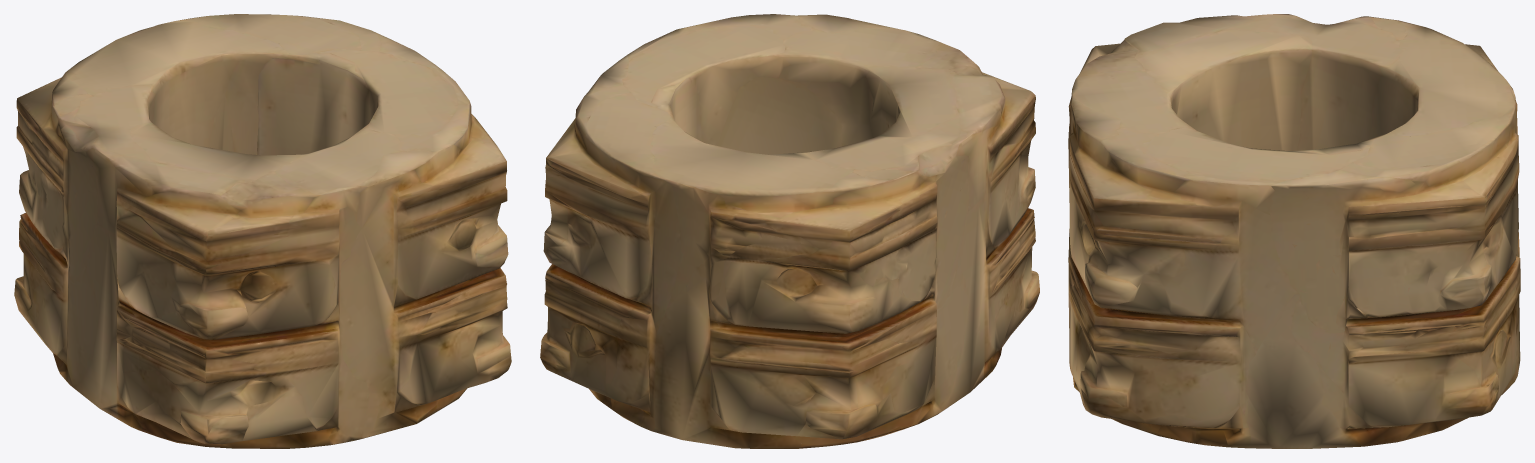
The model's file is liangzhu-early-overview.glb.
3 views of the same model, side by side, from view 1: azimuth 30°, elevation 25°; view 2: azimuth 150°, elevation 25°; view 3: azimuth 270°, elevation 25° (orthographic). The views are drawn at different scales.
Visible parts, largest first — view 1: node_0; view 2: node_0; view 3: node_0.
Boxes of the visible parts, x1=… form: node_0: x1=14, y1=14, x2=511, y2=448; node_0: x1=540, y1=14, x2=1039, y2=448; node_0: x1=1068, y1=14, x2=1520, y2=448.
Size of the model in its own units: 0.8365 by 0.5926 by 0.9147.
1 material, 1 textured.
